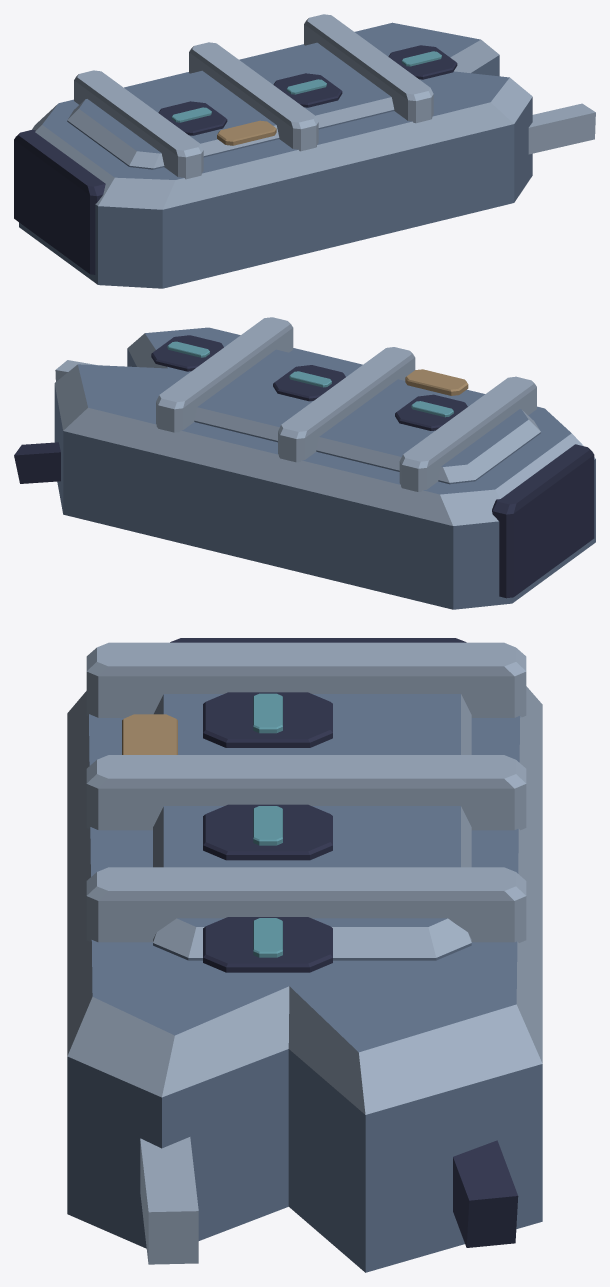
The model's file is station_habitat_wreck.glb.
3 renders of one model, top to bottom at view 1: azimuth 30°, elevation 25°; view 2: azimuth 150°, elevation 25°; view 3: azimuth 270°, elevation 25°, orthographic. The views are drawn at different scales.
Visible parts, largest first — view 1: station_habitat_wreck; view 2: station_habitat_wreck; view 3: station_habitat_wreck.
Boxes of the visible parts, x1=… form: station_habitat_wreck: x1=14, y1=14, x2=595, y2=288; station_habitat_wreck: x1=14, y1=317, x2=595, y2=609; station_habitat_wreck: x1=67, y1=638, x2=542, y2=1272.
Bounding box in the file's own units: 3.92 × 0.94 × 1.61.
